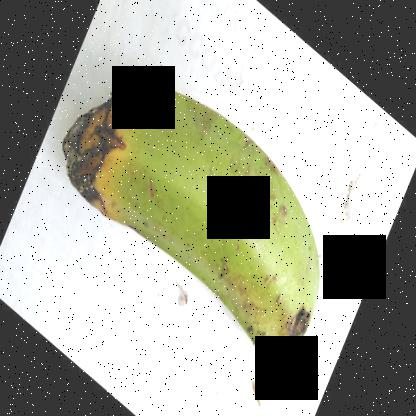rotten: (66, 95, 165, 247)
unripe: (120, 66, 326, 366)
